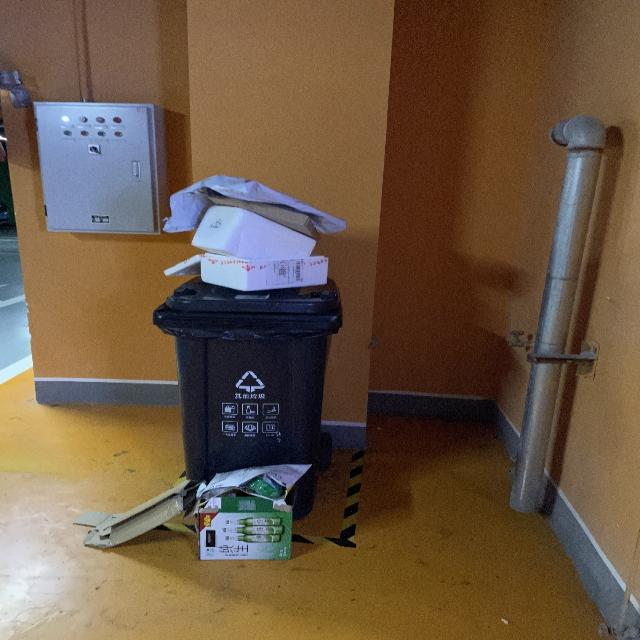garbage: (72, 462, 312, 560)
overflow: (153, 174, 345, 518)
